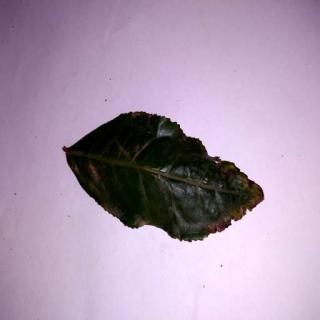Bird Eye Spot: (66, 114, 266, 243)
